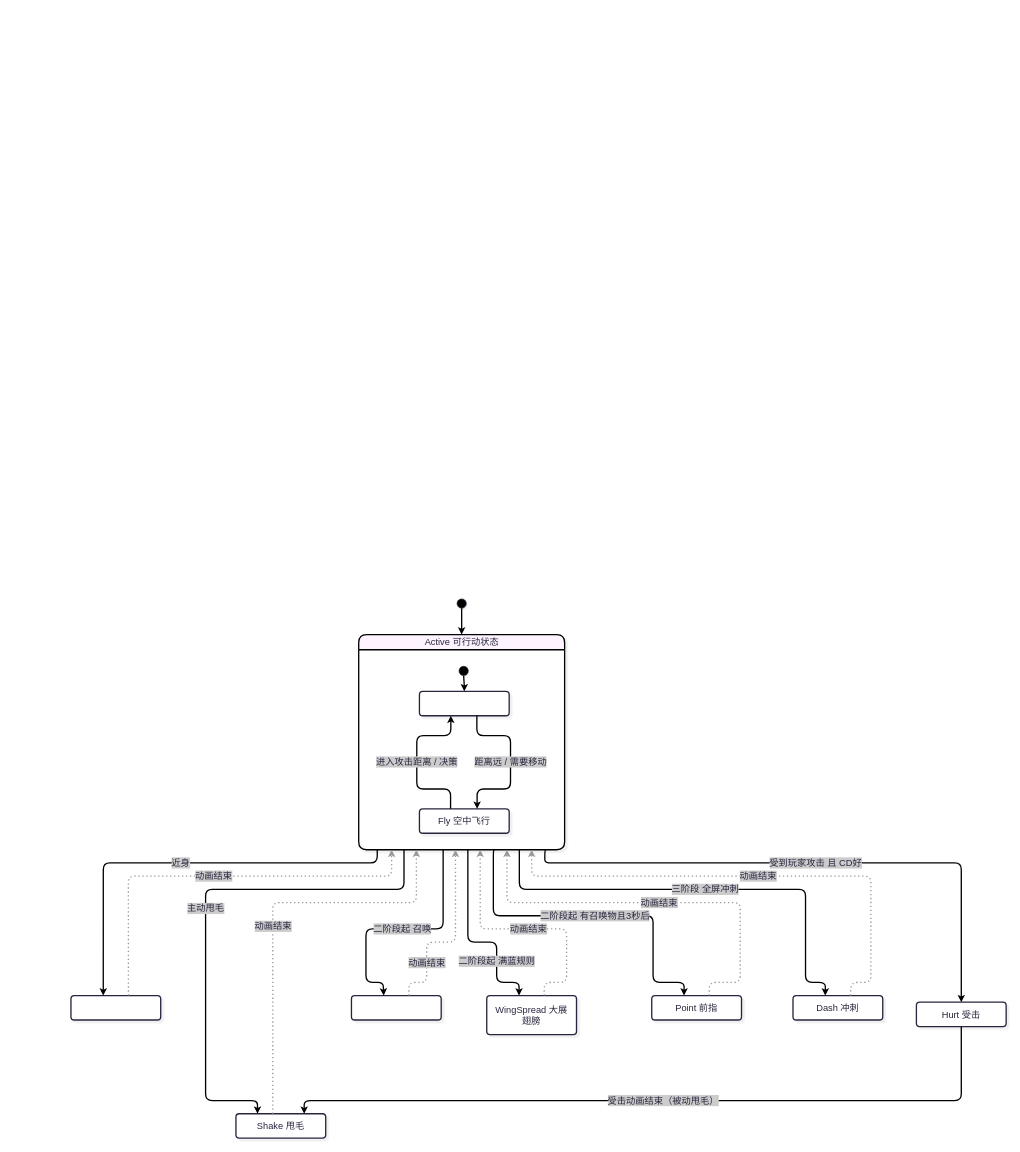
Image size: 1020x1152. Some labels were removed from this diagram. The shapes that lost their labels are listed below. From the top down, each one's centre as x and y in pixels, then its label:
At (465,704): "Idle 地面决策".
At (117,1009): "Slash 劈砍".
At (397,1009): "Roar 大叫".
